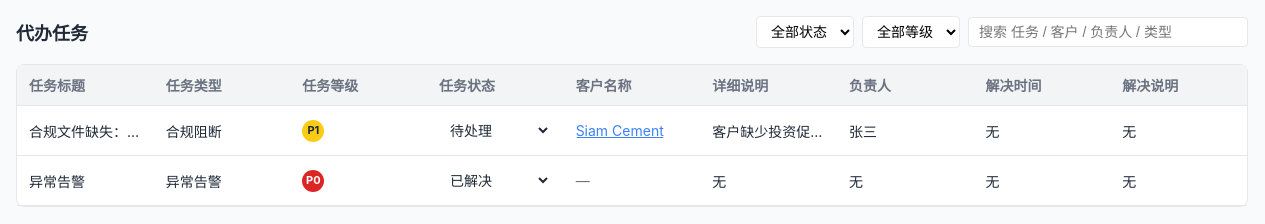
Test case: TaskList › filters tasks by type via search input
Expected: the button "Siam Cement" is shown, top-left (576, 122), bottom-right (664, 139)
Step 1. Type "anomaly_alert" into the search field with test id "search-input" → {"x": 1108, "y": 32}, box top-left (968, 17), bottom-right (1248, 47)
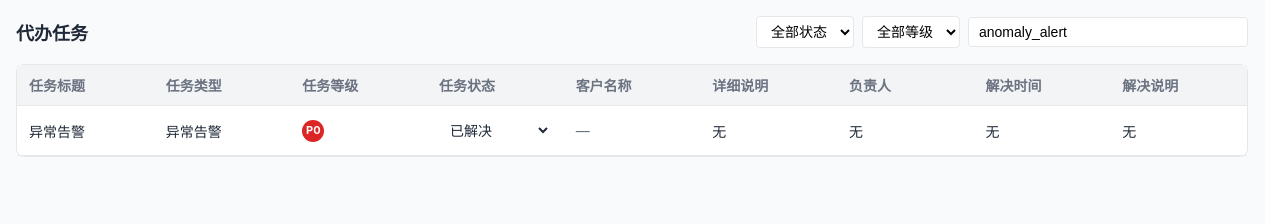
Expected: the text "合规文件缺失：泰国 BOI" is gone
